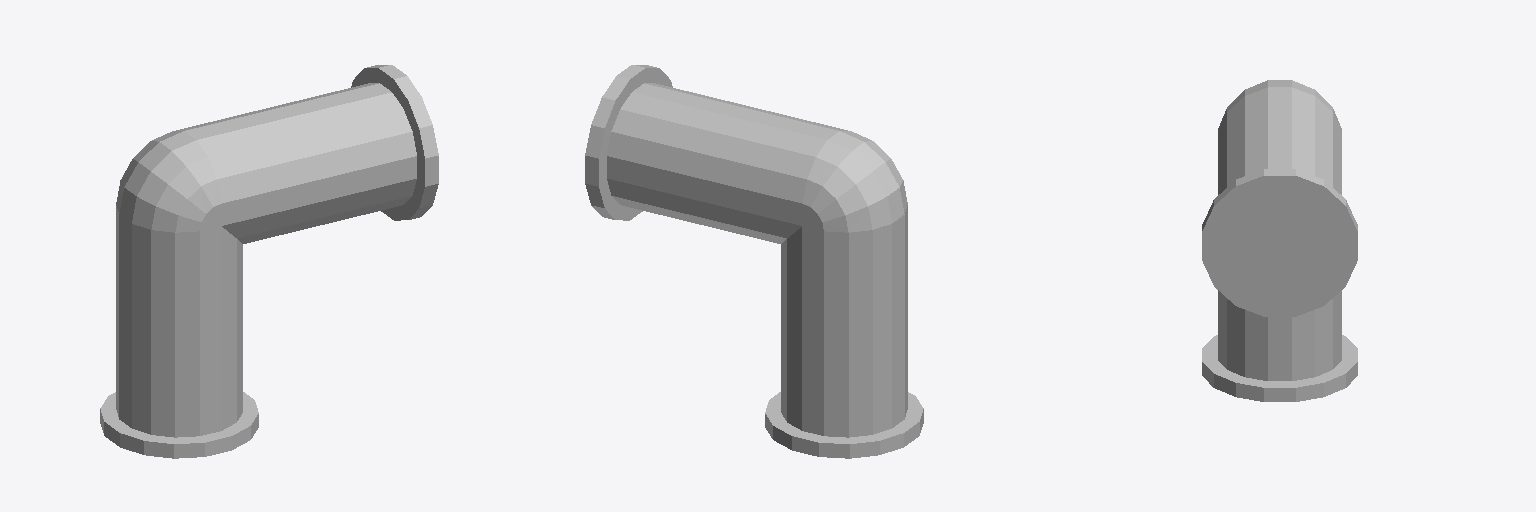
The model's file is pipeworks_pipe_4.obj.
3 views of the same model, side by side, from view 1: azimuth 30°, elevation 25°; view 2: azimuth 150°, elevation 25°; view 3: azimuth 270°, elevation 25° (orthographic).
Visible parts, largest first — view 1: pipe.001_Cylinder.000; view 2: pipe.001_Cylinder.000; view 3: pipe.001_Cylinder.000.
Part boxes in pixels (left/top/right/bottom): pipe.001_Cylinder.000: left=100, top=65, right=438, bottom=458; pipe.001_Cylinder.000: left=585, top=65, right=923, bottom=458; pipe.001_Cylinder.000: left=1202, top=80, right=1357, bottom=401.
Size of the model in its own units: 0.6532 by 0.6532 by 0.3065.